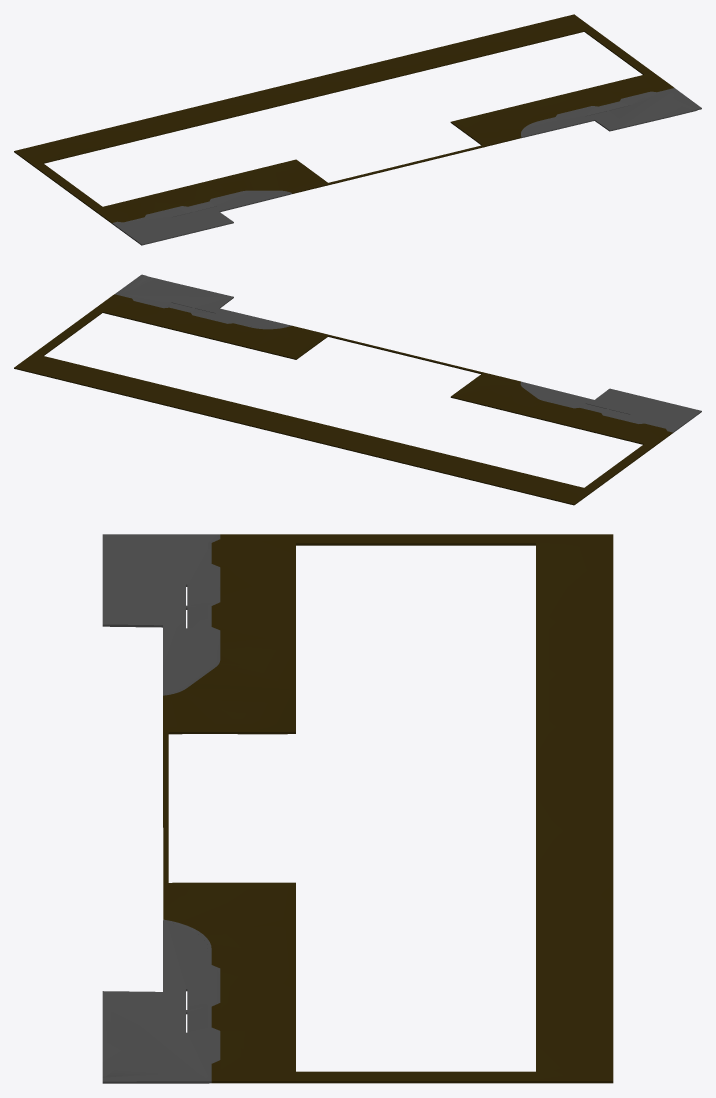
The model's file is GCC-AAV-13220-30(1).fbx.
3 views of the same model, one above another, from view 1: azimuth 30°, elevation 25°; view 2: azimuth 150°, elevation 25°; view 3: azimuth 270°, elevation 25° (orthographic). The views are drawn at different scales.
Parts seen in each view (by area): view 1: /R52-08, /R52-06, /R52-04, GENPRI 5 of VOLMODEL /13220-00-5200/PP/GP/LD, GENPRI 3 of VOLMODEL /13220-00-5200/PP/GP/LD, GENPRI 3 of VOLMODEL /13220-00-5200/PP/GP/R, GENPRI 4 of VOLMODEL /13220-00-5200/PP/GP/R, /R52-02; view 2: /R52-08, /R52-04, /R52-06, GENPRI 5 of VOLMODEL /13220-00-5200/PP/GP/LD, GENPRI 3 of VOLMODEL /13220-00-5200/PP/GP/LD, GENPRI 3 of VOLMODEL /13220-00-5200/PP/GP/R, GENPRI 4 of VOLMODEL /13220-00-5200/PP/GP/R, /R52-02; view 3: /R52-08, /R52-04, /R52-06, GENPRI 5 of VOLMODEL /13220-00-5200/PP/GP/LD, GENPRI 3 of VOLMODEL /13220-00-5200/PP/GP/LD, GENPRI 4 of VOLMODEL /13220-00-5200/PP/GP/R, GENPRI 3 of VOLMODEL /13220-00-5200/PP/GP/R, /R52-02.
Boxes of the visible parts, <box> form: /R52-08: <box>14,14,593,166</box>; /R52-06: <box>92,159,330,223</box>; /R52-04: <box>450,72,674,147</box>; GENPRI 5 of VOLMODEL /13220-00-5200/PP/GP/LD: <box>115,191,290,244</box>; GENPRI 3 of VOLMODEL /13220-00-5200/PP/GP/LD: <box>522,89,698,137</box>; GENPRI 3 of VOLMODEL /13220-00-5200/PP/GP/R: <box>34,163,101,209</box>; GENPRI 4 of VOLMODEL /13220-00-5200/PP/GP/R: <box>585,29,652,74</box>; /R52-02: <box>329,145,483,184</box>; /R52-08: <box>14,353,594,505</box>; /R52-04: <box>93,294,328,359</box>; /R52-06: <box>450,372,672,447</box>; GENPRI 5 of VOLMODEL /13220-00-5200/PP/GP/LD: <box>522,382,699,431</box>; GENPRI 3 of VOLMODEL /13220-00-5200/PP/GP/LD: <box>119,275,289,328</box>; GENPRI 3 of VOLMODEL /13220-00-5200/PP/GP/R: <box>585,444,652,490</box>; GENPRI 4 of VOLMODEL /13220-00-5200/PP/GP/R: <box>34,309,102,355</box>; /R52-02: <box>328,335,482,374</box>; /R52-08: <box>532,534,613,1083</box>; /R52-04: <box>163,882,296,1083</box>; /R52-06: <box>163,534,298,734</box>; GENPRI 5 of VOLMODEL /13220-00-5200/PP/GP/LD: <box>102,535,216,693</box>; GENPRI 3 of VOLMODEL /13220-00-5200/PP/GP/LD: <box>102,921,216,1077</box>; GENPRI 4 of VOLMODEL /13220-00-5200/PP/GP/R: <box>296,1071,531,1083</box>; GENPRI 3 of VOLMODEL /13220-00-5200/PP/GP/R: <box>299,534,532,545</box>; /R52-02: <box>163,733,168,882</box>.
Size of the model in its own units: 20669 by 68.9 by 8159.
